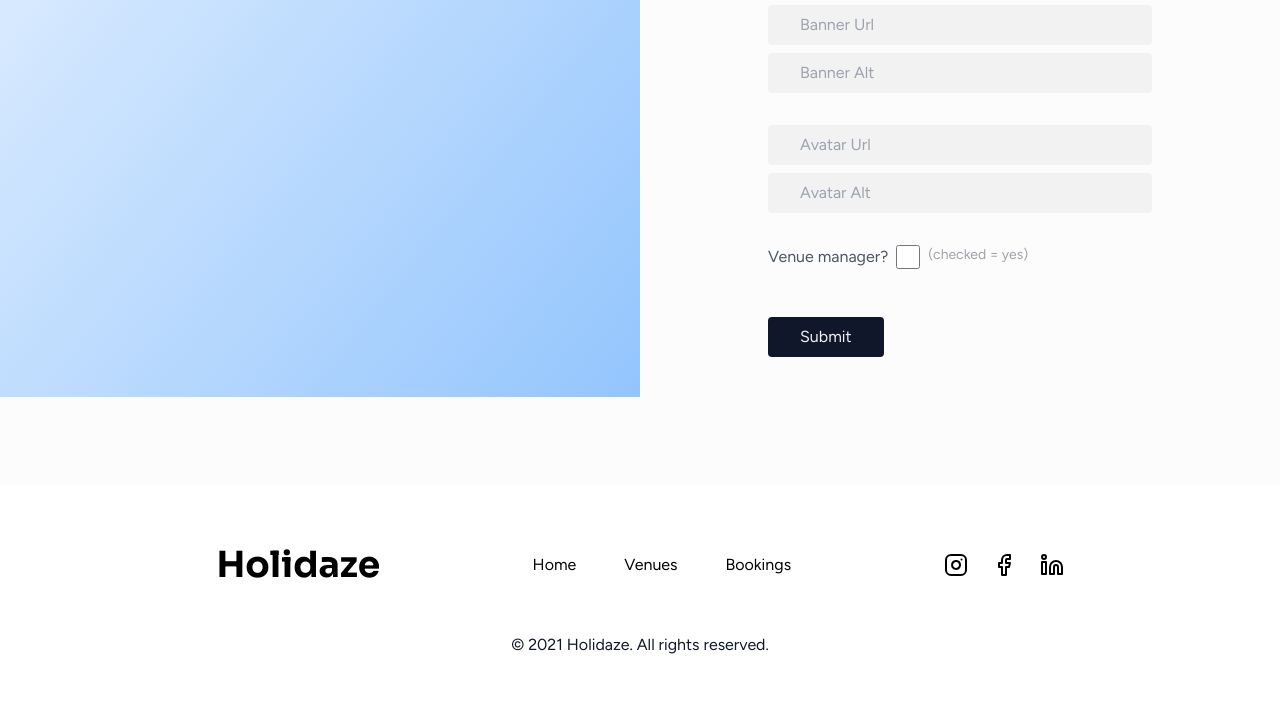
Register Form Errors › should get error whith no email
(page scrolled)
Click the button with id "submit-register-button" at x=826, y=337, box [768,317,884,357]
(page scrolled)
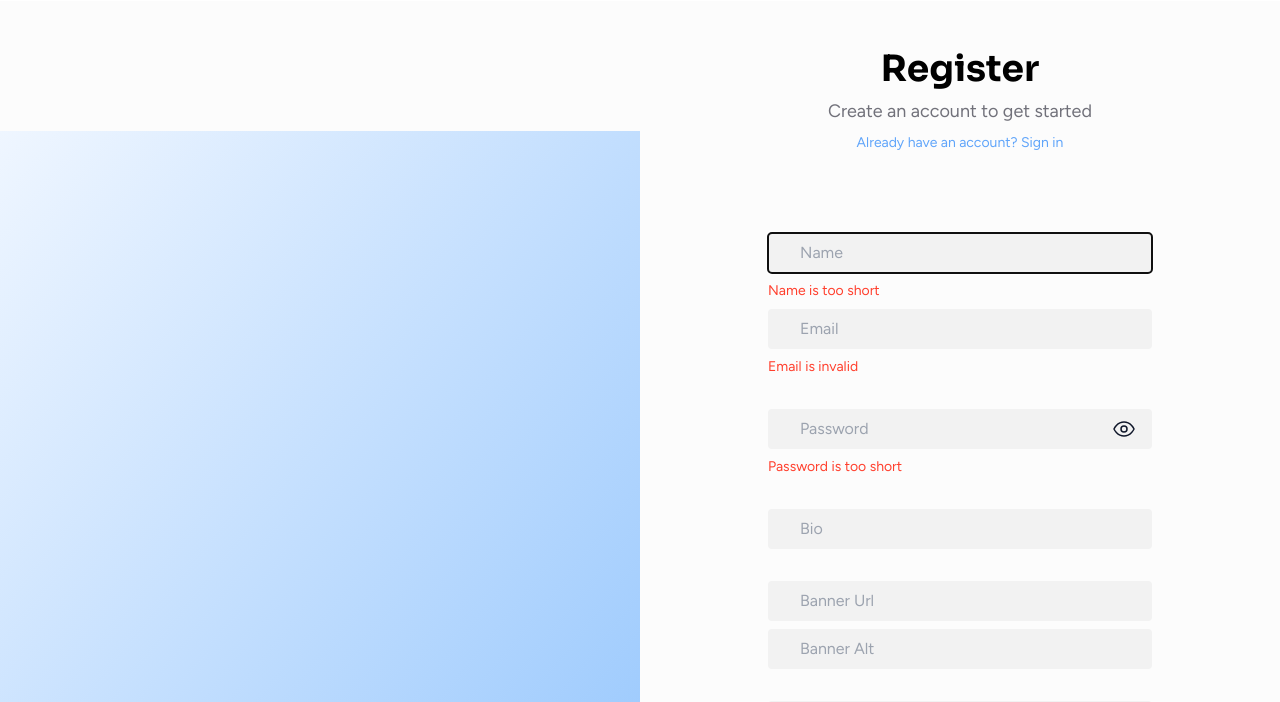
Expected: the text "Email is invalid" is shown, [768,358,858,375]
